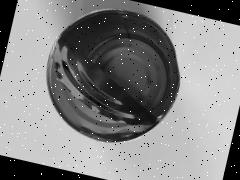metal: (10, 0, 212, 177)
